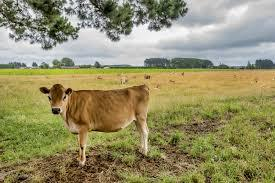cow: (39, 83, 151, 170)
